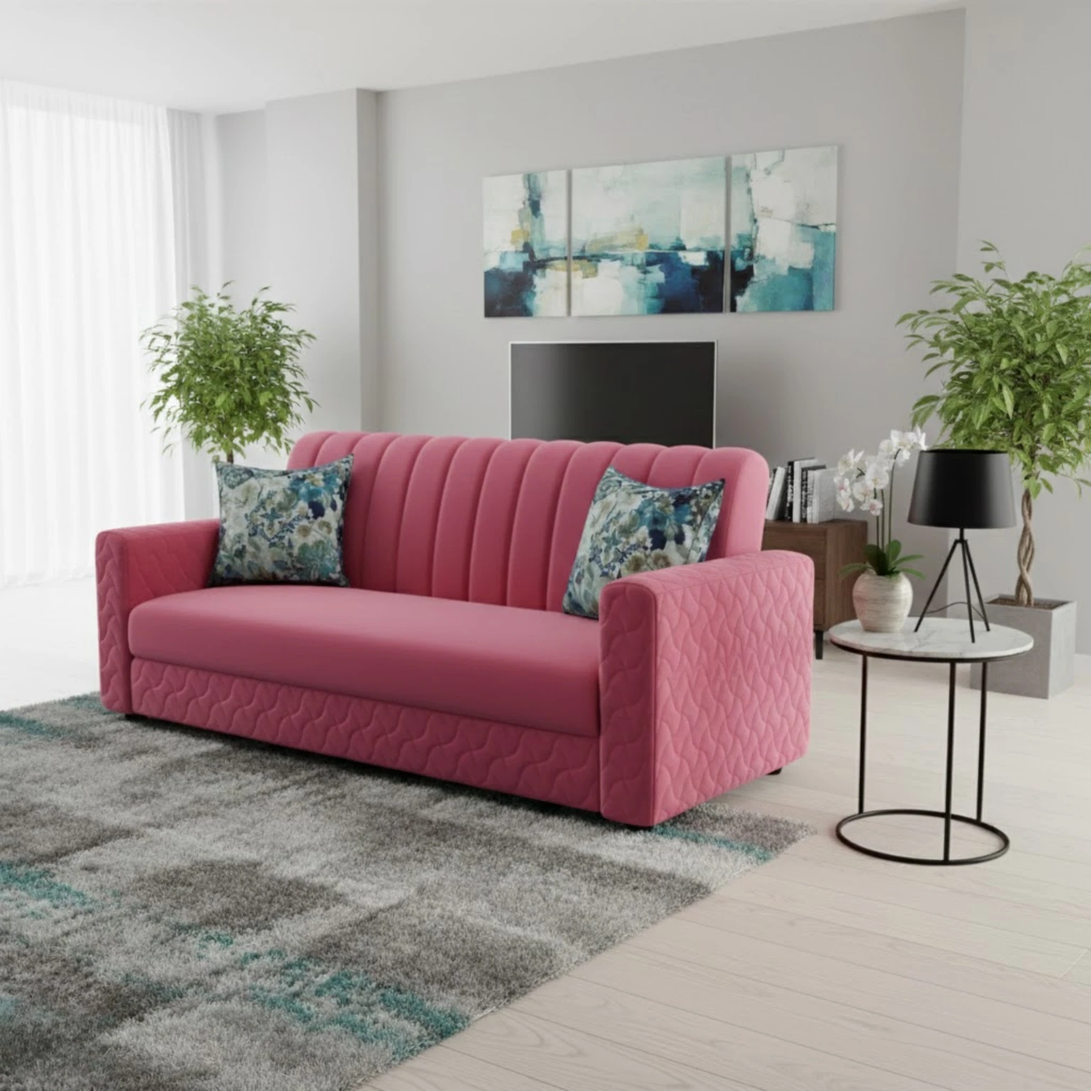3seatersofa: (97, 433, 813, 827)
backrest: (290, 433, 767, 612)
base: (134, 658, 600, 810)
leftarmrest: (600, 553, 812, 824)
leg: (769, 767, 782, 775)
pillow: (563, 467, 724, 617), (210, 455, 352, 585)
rightarmrest: (96, 520, 217, 712)
seat: (128, 586, 599, 737)
